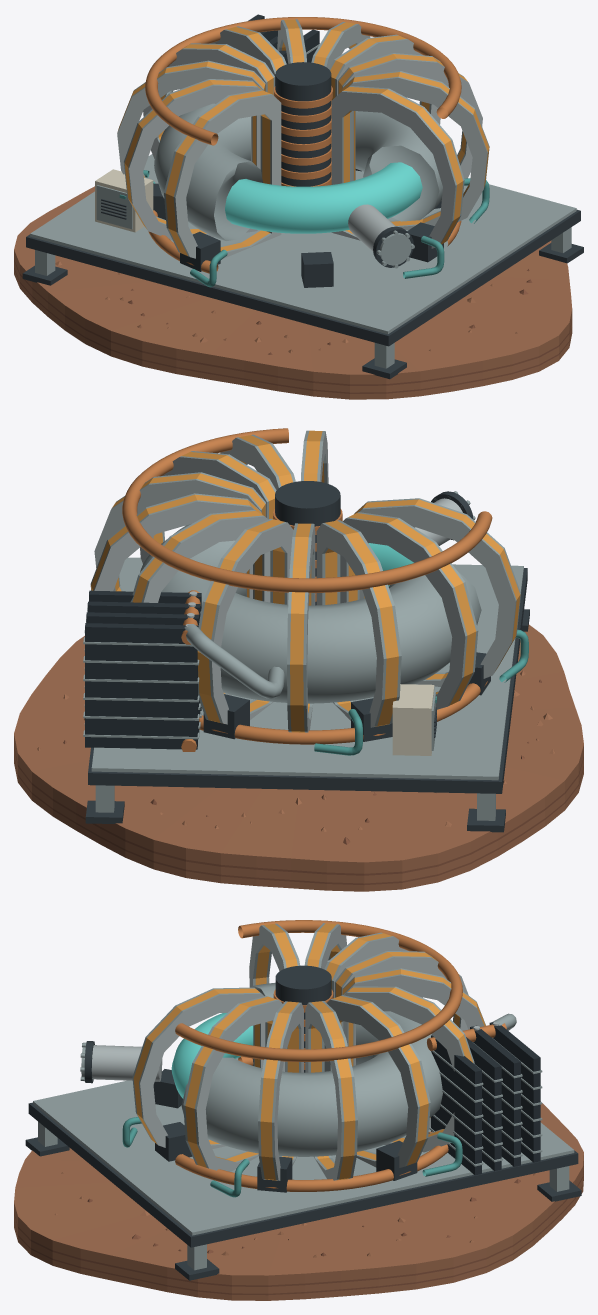
File: fusion_station.glb
The picture shows the model from 3 angles, top to bottom: view 1: azimuth 30°, elevation 25°; view 2: azimuth 150°, elevation 25°; view 3: azimuth 270°, elevation 25°; orthographic projection. The views are drawn at different scales.
Visible parts, largest first — view 1: Regolith plinth, Service deck, Outer casing, Exposed chamber, Coil bay 5, Coil bay 1, Central column, Annular manifolds, Coil bay 6, Coil bay 14, Coil bay 7, Coil bay 13 (+9 smaller); view 2: Regolith plinth, Service deck, Cooling lines and exchanger bank, Outer casing, Annular manifolds, Coil bay 7, Coil bay 9, Coil bay 6, Coil bay 5, Coil bay 8, Coil bay 11, Coil bay 10 (+8 smaller); view 3: Regolith plinth, Service deck, Outer casing, Cooling lines and exchanger bank, Annular manifolds, Coil bay 1, Coil bay 11, Coil bay 14, Coil bay 13, Coil bay 12, Coil bay 10, Coil bay 9 (+8 smaller).
Boxes of the visible parts, box(x1,y1,x2,y2) form: Regolith plinth: box(14, 186, 572, 399); Service deck: box(22, 154, 583, 379); Outer casing: box(154, 103, 442, 240); Exposed chamber: box(225, 162, 422, 233); Coil bay 5: box(164, 89, 281, 271); Coil bay 1: box(331, 86, 464, 262); Central column: box(274, 62, 332, 186); Annular manifolds: box(145, 17, 461, 273); Coil bay 6: box(123, 79, 263, 240); Coil bay 14: box(342, 71, 489, 229); Coil bay 7: box(117, 60, 265, 219); Coil bay 13: box(337, 53, 482, 208); Regolith plinth: box(14, 624, 583, 891); Service deck: box(85, 557, 529, 832); Cooling lines and exchanger bank: box(83, 590, 528, 755); Outer casing: box(140, 524, 481, 703); Annular manifolds: box(122, 428, 492, 744); Coil bay 7: box(316, 520, 401, 741); Coil bay 9: box(197, 518, 293, 739); Coil bay 6: box(340, 512, 478, 709); Coil bay 5: box(354, 498, 520, 695); Coil bay 8: box(287, 523, 315, 732); Coil bay 11: box(90, 493, 262, 598); Coil bay 10: box(130, 510, 270, 695); Regolith plinth: box(14, 1103, 583, 1300); Service deck: box(25, 1058, 581, 1280); Outer casing: box(181, 982, 442, 1156); Cooling lines and exchanger bank: box(122, 1013, 542, 1197); Annular manifolds: box(175, 920, 462, 1191); Coil bay 1: box(132, 987, 265, 1161); Coil bay 11: box(324, 995, 430, 1180); Coil bay 14: box(183, 996, 284, 1171); Coil bay 13: box(257, 1001, 303, 1192); Coil bay 12: box(305, 1001, 357, 1180); Coil bay 10: box(343, 986, 474, 1152); Coil bay 9: box(342, 968, 485, 1127).
Size of the model in its own units: 5.92 by 2.81 by 6.48.
